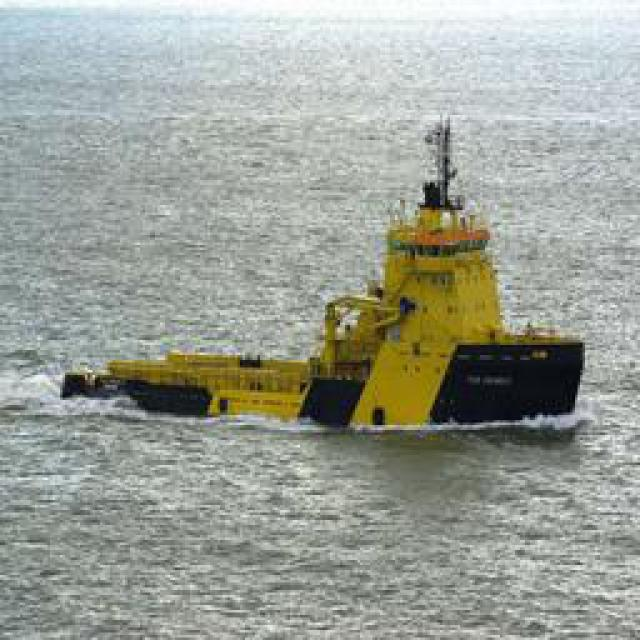Ship: (275, 114, 595, 434)
